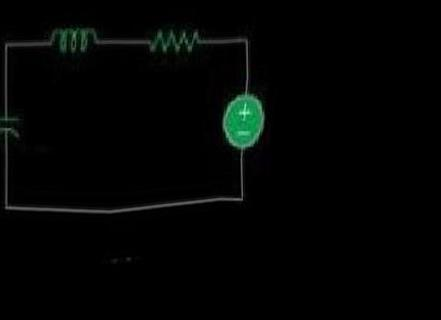Battery: (202, 82, 284, 155)
